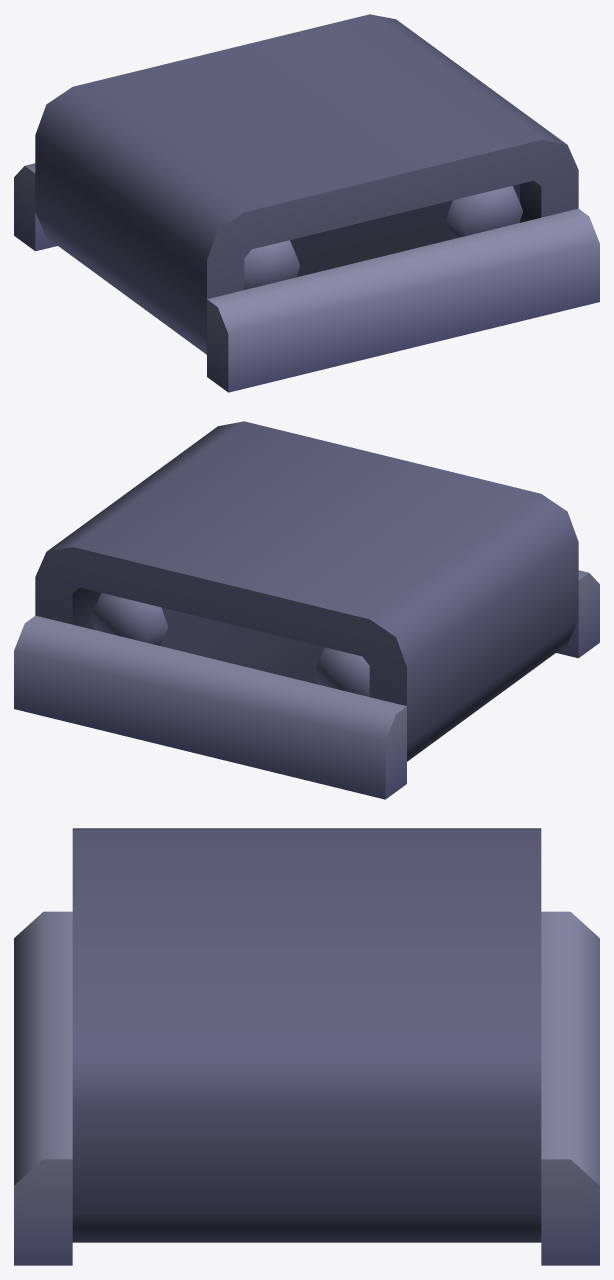
File: conveyor-sides.glb
3 renders of one model, top to bottom at view 1: azimuth 30°, elevation 25°; view 2: azimuth 150°, elevation 25°; view 3: azimuth 270°, elevation 25°, orthographic. The views are drawn at different scales.
Visible parts, largest first — view 1: conveyor-sides; view 2: conveyor-sides; view 3: conveyor-sides.
Boxes of the visible parts, <box> form: conveyor-sides: <box>14,14,599,392</box>; conveyor-sides: <box>14,421,599,799</box>; conveyor-sides: <box>14,828,599,1265</box>.
Bounding box in the file's own units: 1 × 0.4 × 1.
